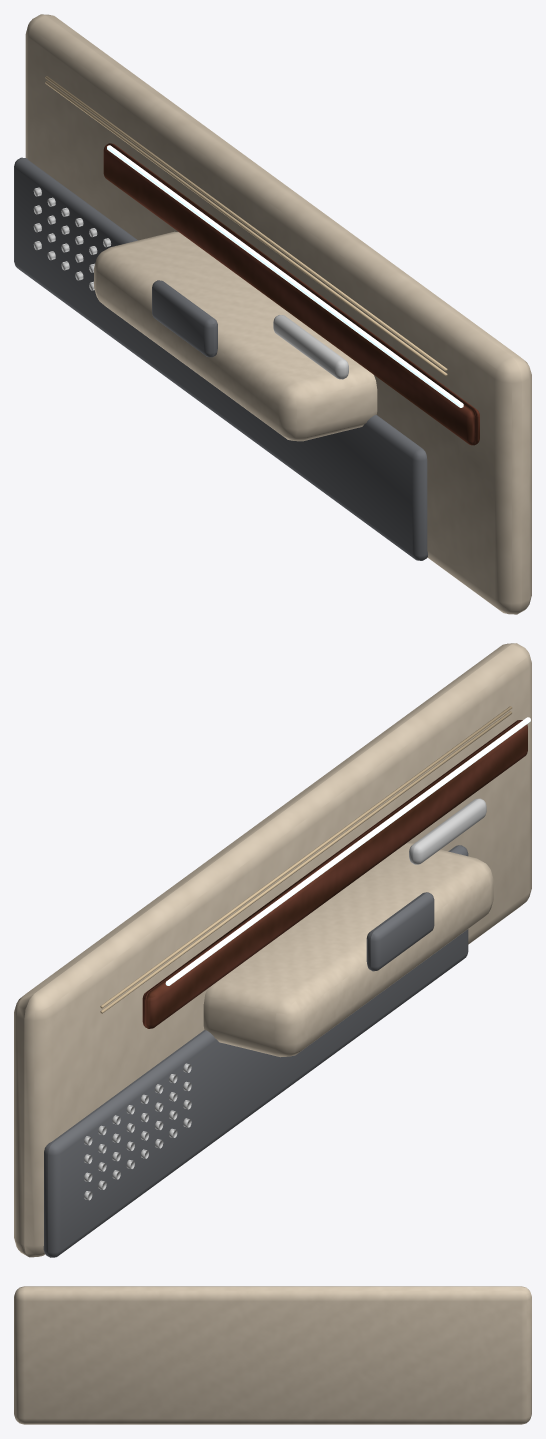
The model's file is r51-door-card.glb.
3 renders of one model, top to bottom at view 1: azimuth 30°, elevation 25°; view 2: azimuth 150°, elevation 25°; view 3: azimuth 270°, elevation 25°, orthographic. The views are drawn at different scales.
Visible parts, largest first — view 1: door-card__IvoryLeather, door-card__DarkLeather, door-card__WalnutVeneer, door-card__SaddleThread, door-card__BrushedMetal, door-card__AmbientLight; view 2: door-card__IvoryLeather, door-card__DarkLeather, door-card__WalnutVeneer, door-card__BrushedMetal, door-card__SaddleThread, door-card__AmbientLight; view 3: door-card__IvoryLeather.
Boxes of the visible parts, box(x1,y1,x2,y2) form: door-card__IvoryLeather: box(25, 14, 531, 614); door-card__DarkLeather: box(14, 157, 427, 560); door-card__WalnutVeneer: box(103, 143, 479, 445); door-card__SaddleThread: box(45, 76, 447, 376); door-card__BrushedMetal: box(33, 187, 348, 379); door-card__AmbientLight: box(107, 145, 463, 407); door-card__IvoryLeather: box(14, 643, 531, 1257); door-card__DarkLeather: box(43, 845, 468, 1257); door-card__WalnutVeneer: box(142, 720, 527, 1028); door-card__BrushedMetal: box(84, 798, 486, 1200); door-card__SaddleThread: box(100, 706, 512, 1013); door-card__AmbientLight: box(165, 717, 530, 985); door-card__IvoryLeather: box(14, 1286, 531, 1424).
Size of the model in its own units: 0.25 by 0.46 by 1.58.
6 materials, 2 textured.
